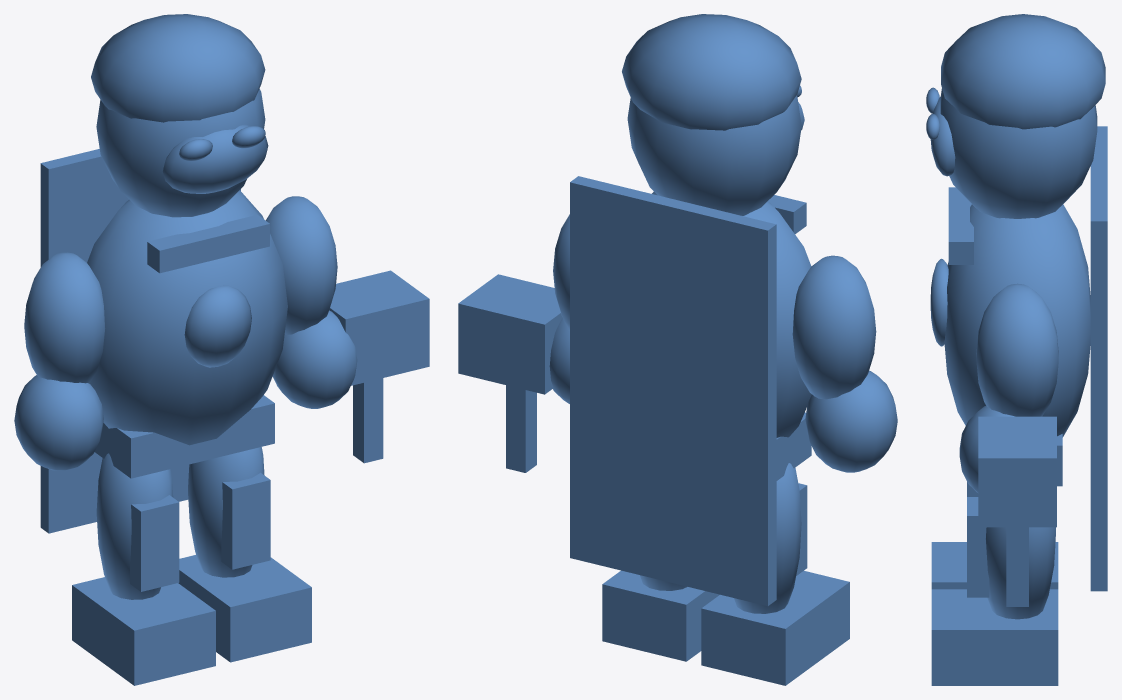
File: thor.glb
The picture shows the model from 3 angles, left to right: view 1: azimuth 30°, elevation 25°; view 2: azimuth 150°, elevation 25°; view 3: azimuth 270°, elevation 25°; orthographic projection. The views are drawn at different scales.
Visible parts, largest first — view 1: thor-hero; view 2: thor-hero; view 3: thor-hero.
Boxes of the visible parts, x1,y1,x2,y2 form: thor-hero: [14, 14, 429, 685]; thor-hero: [458, 14, 897, 685]; thor-hero: [926, 14, 1107, 685].
Size of the model in its own units: 1.64 by 2.41 by 0.6444.
